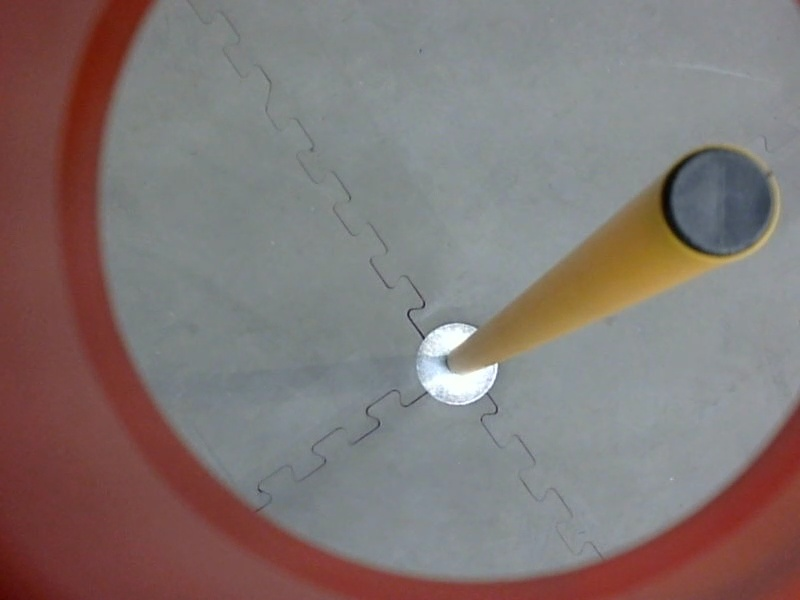tip: (653, 135, 787, 267)
